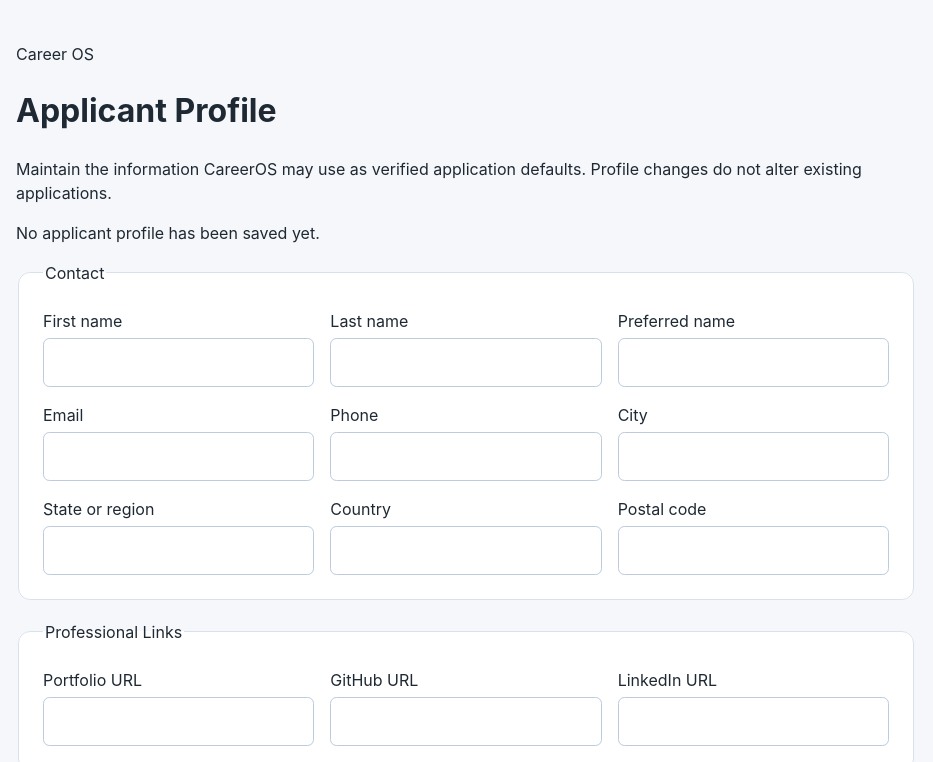
Test case: ApplicantProfilePage › supports the empty state and creates the first profile
Expected: the text "No applicant profile has been saved yet." is shown, left=16, top=223, right=320, bottom=243
Step 1. Type "Chengu" into the field labelled "First name" → (179, 363), box left=43, top=338, right=314, bottom=387
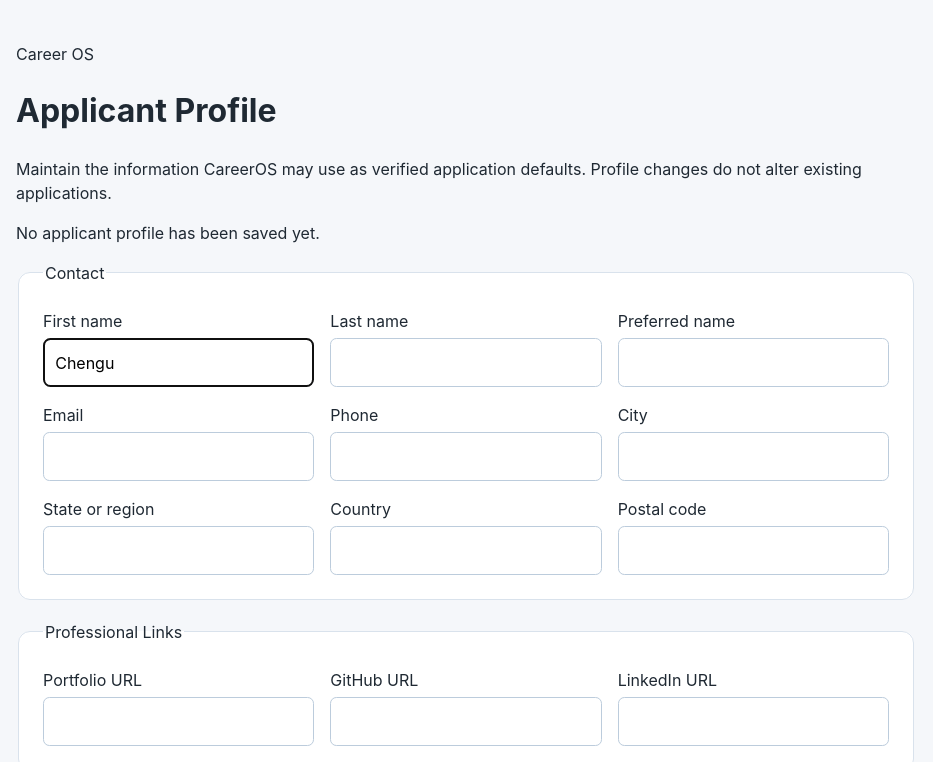
Step 2. Type "Kargbo" into the field labelled "Last name" → (466, 363), box left=330, top=338, right=602, bottom=387
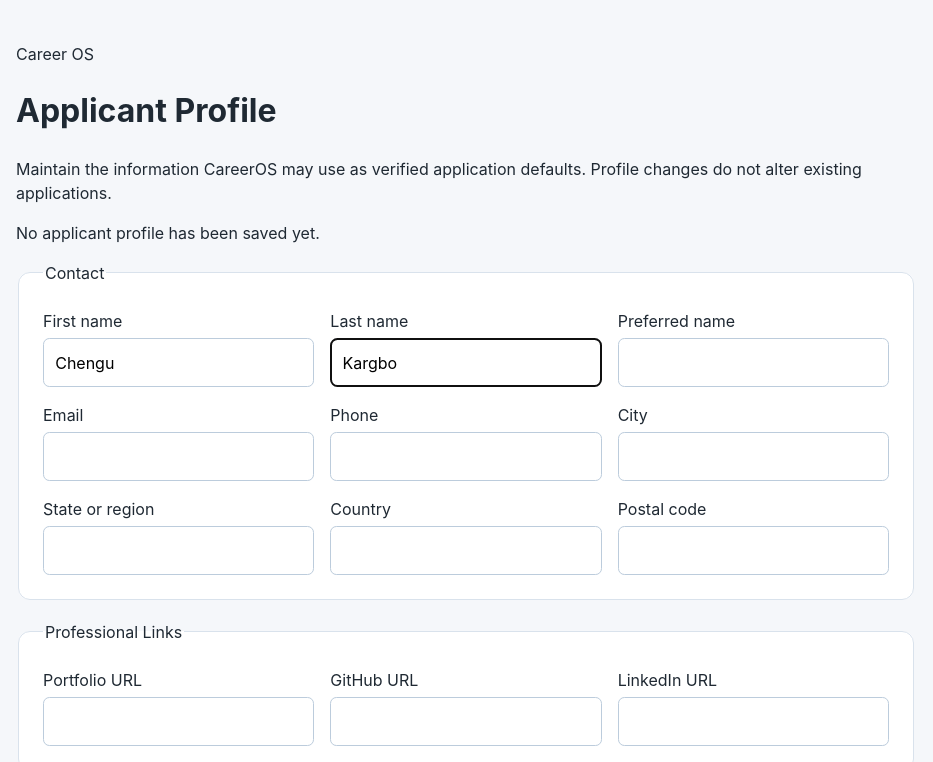
Step 3. Type "chengu@example.com" into the field labelled "Email" → (179, 457), box left=43, top=432, right=314, bottom=481
(page scrolled)
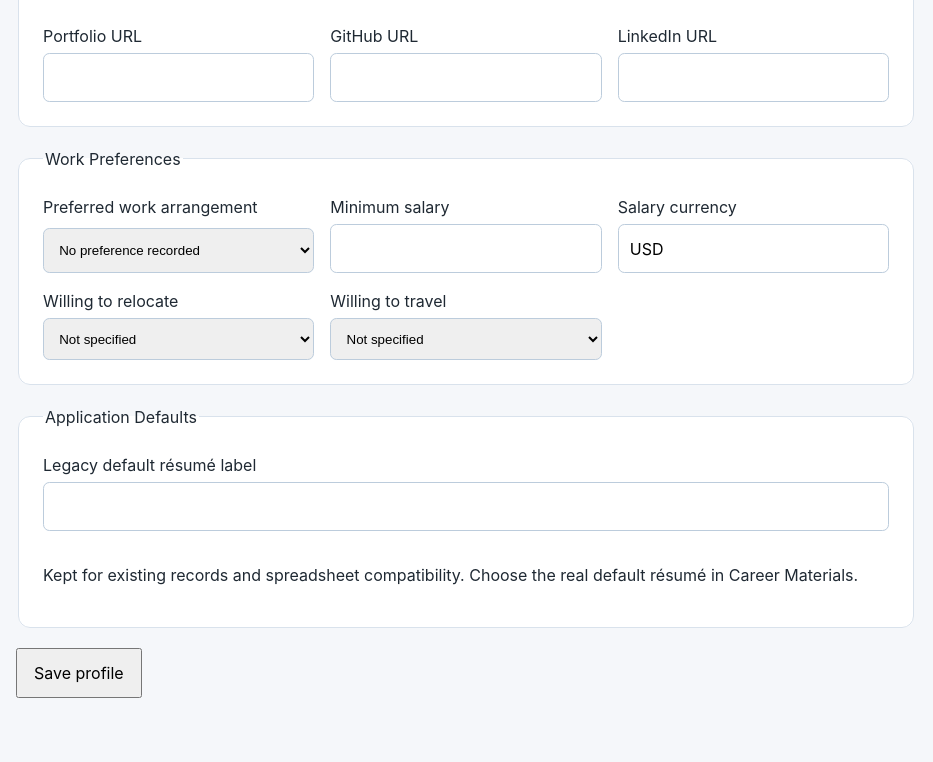
Step 4. Click the button "Save profile" → (79, 673), box left=16, top=648, right=142, bottom=698
(page scrolled)
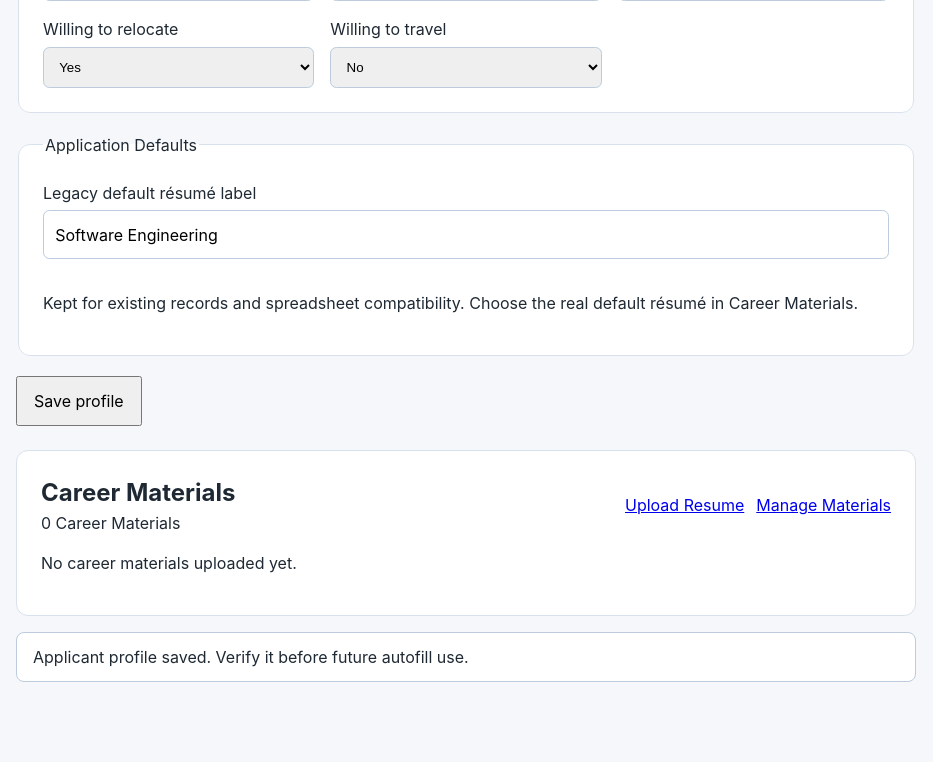
Expected: the text "Applicant profile saved. Verify it before future autofill use." is shown, left=16, top=632, right=916, bottom=682
